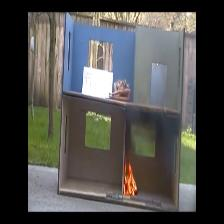fire: (125, 165, 137, 197)
